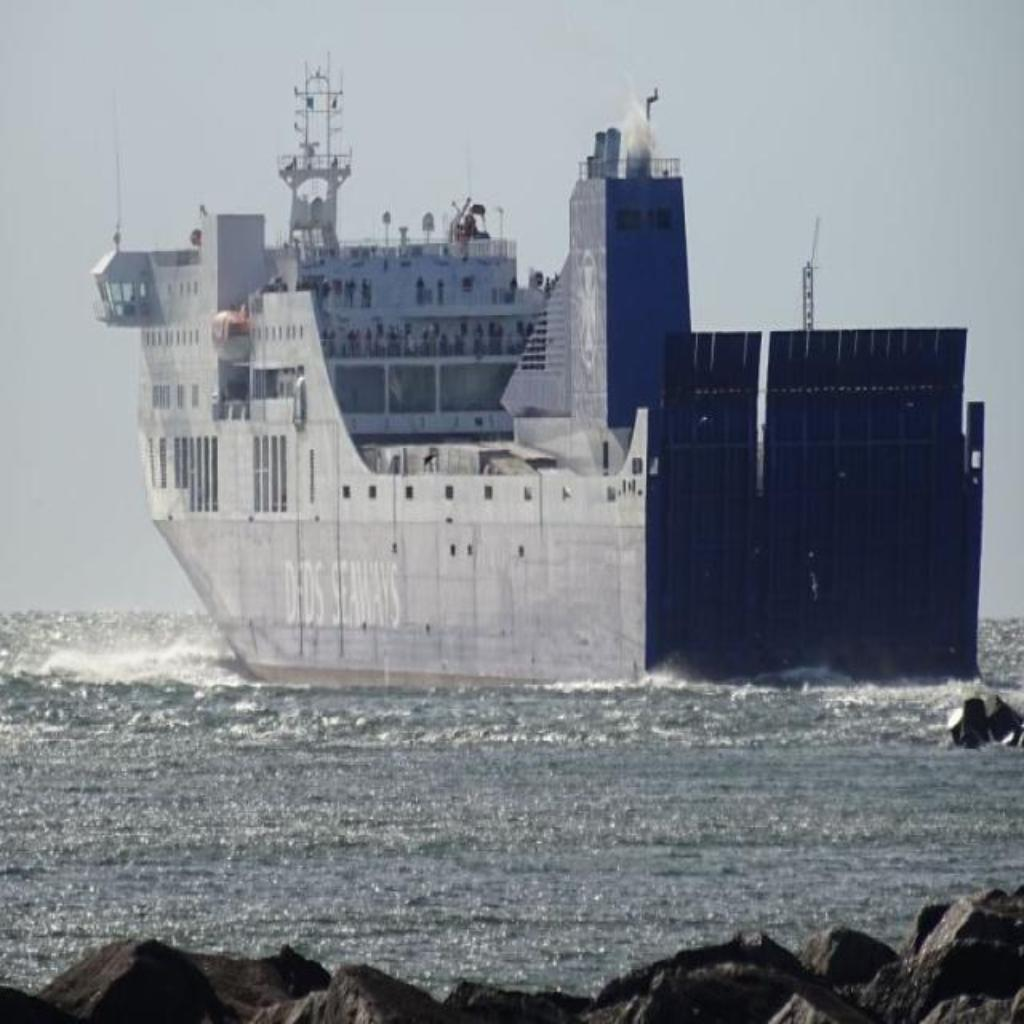Warship: (86, 43, 996, 705)
